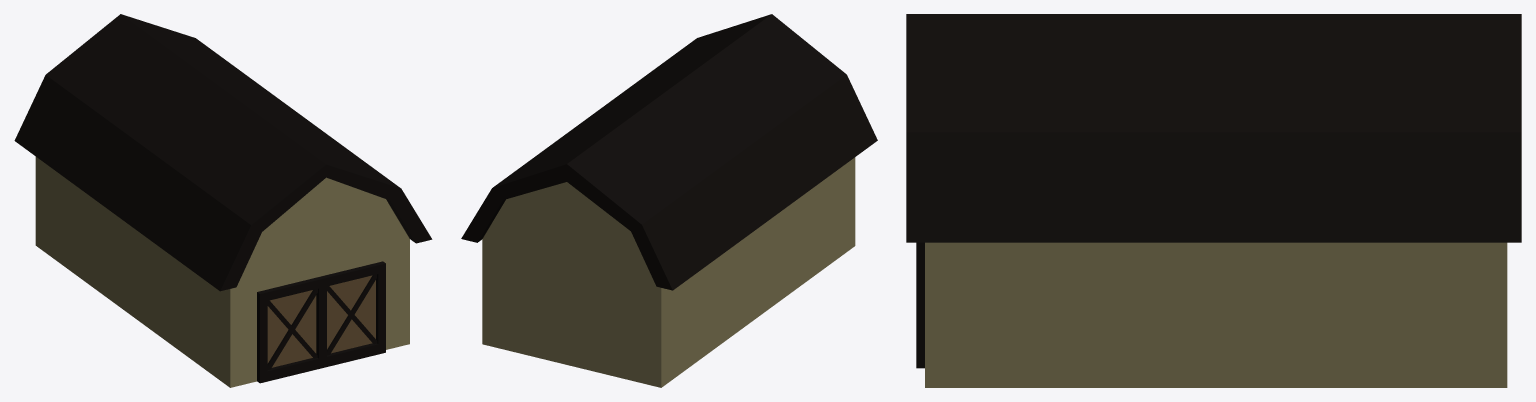
Rendered from celeiro.fbx.
3 renders of one model, left to right at view 1: azimuth 30°, elevation 25°; view 2: azimuth 150°, elevation 25°; view 3: azimuth 270°, elevation 25°, orthographic. The views are drawn at different scales.
Parts seen in each view (by area): view 1: celeiro_Rafael; view 2: celeiro_Rafael; view 3: celeiro_Rafael.
Boxes of the visible parts, bbox=[...] form: celeiro_Rafael: bbox=[14, 14, 432, 387]; celeiro_Rafael: bbox=[461, 14, 877, 387]; celeiro_Rafael: bbox=[906, 14, 1521, 387].
Size of the model in its own units: 689 by 639 by 1155.
